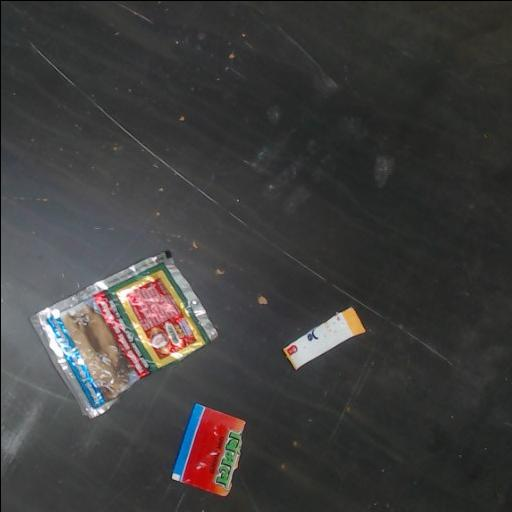conveyor belt: (1, 1, 512, 512)
packet: (32, 252, 216, 416), (172, 403, 245, 495), (283, 307, 364, 368)
